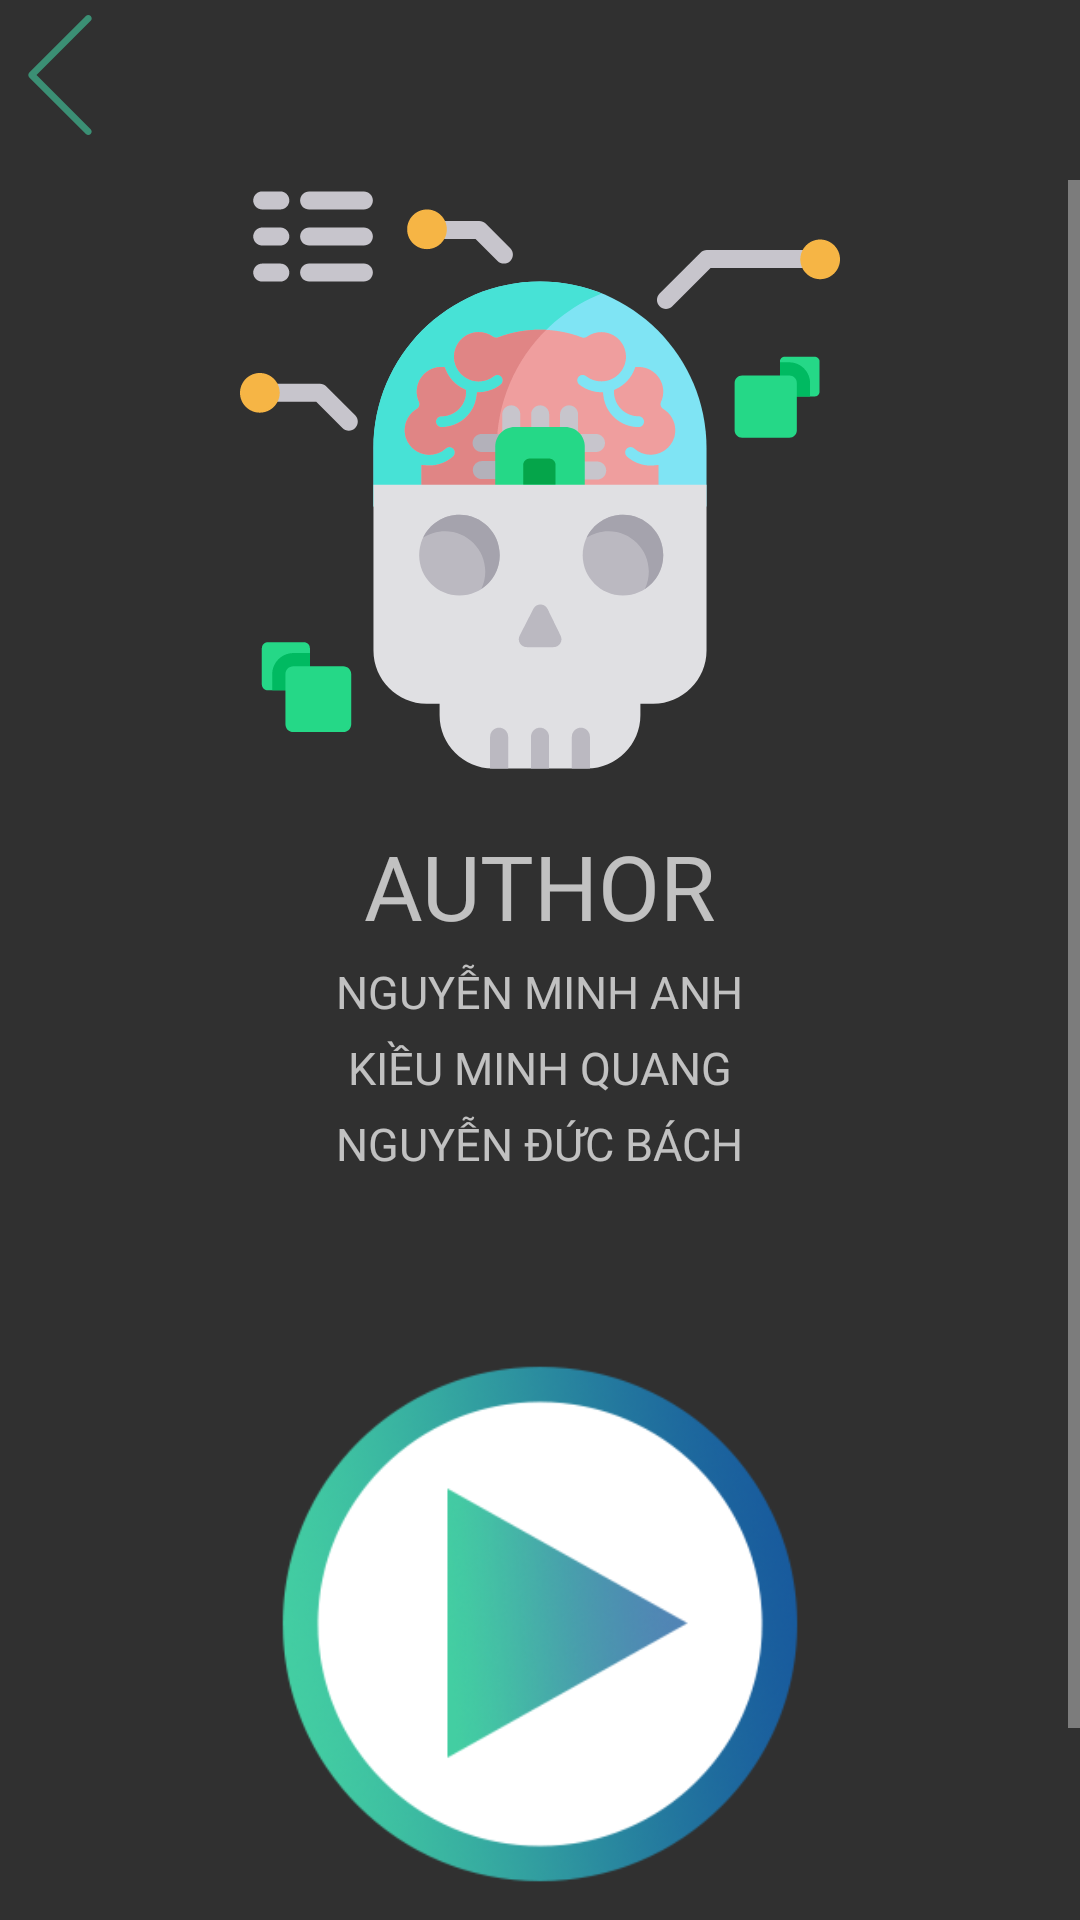

Icons on this 1080*1920 Android screen, each with its box as {"x1": x1, "y1": y1, "x2": x2, "y2": y2}:
back: {"x1": 28, "y1": 15, "x2": 92, "y2": 135}
